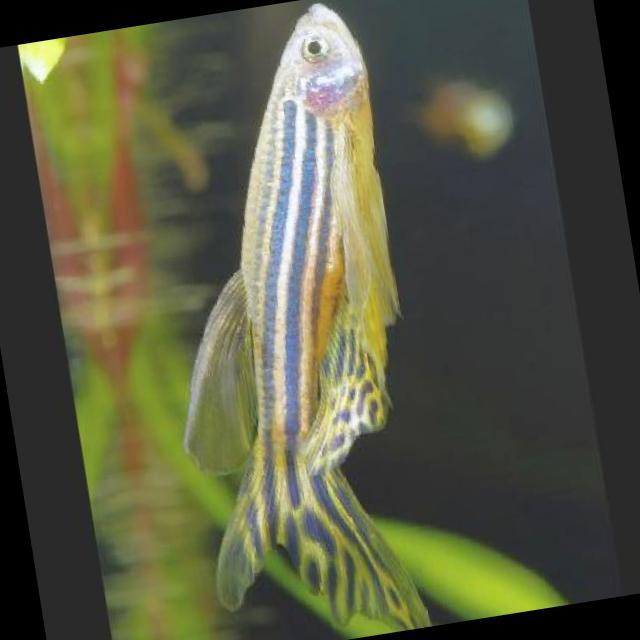ZebraFish: (118, 0, 450, 606)
